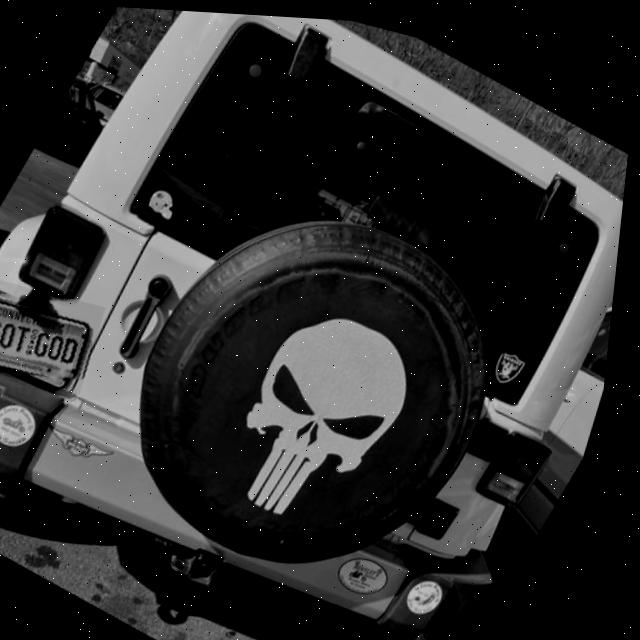LicensePlate: (0, 274, 114, 394)
